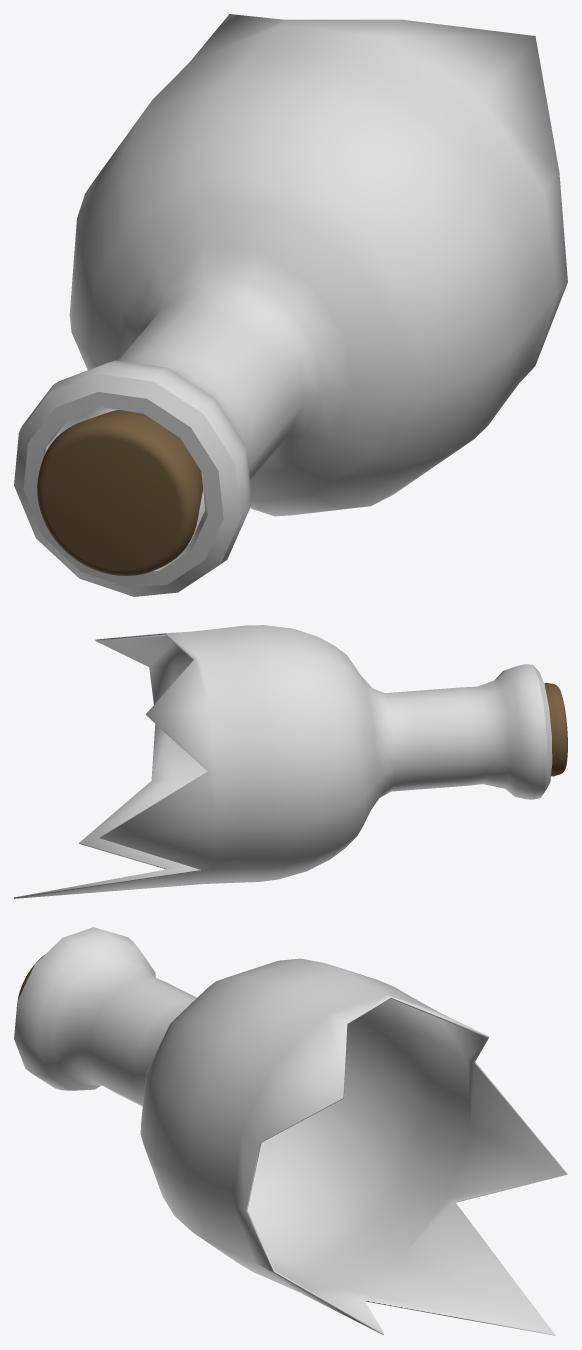
Rendered from Garrafa de Vidro.fbx.
3 views of the same model, one above another, from view 1: azimuth 30°, elevation 25°; view 2: azimuth 150°, elevation 25°; view 3: azimuth 270°, elevation 25° (orthographic). The views are drawn at different scales.
Parts seen in each view (by area): view 1: Plane, Cylinder; view 2: Plane, Cylinder; view 3: Plane.
Part boxes in pixels (x1,y1,x2,y2): Plane: (14,14,567,596); Cylinder: (37,410,202,575); Plane: (14,625,552,898); Cylinder: (544,682,567,776); Plane: (14,927,567,1335).
Bounding box in the file's own units: 146 × 86.88 × 152.
